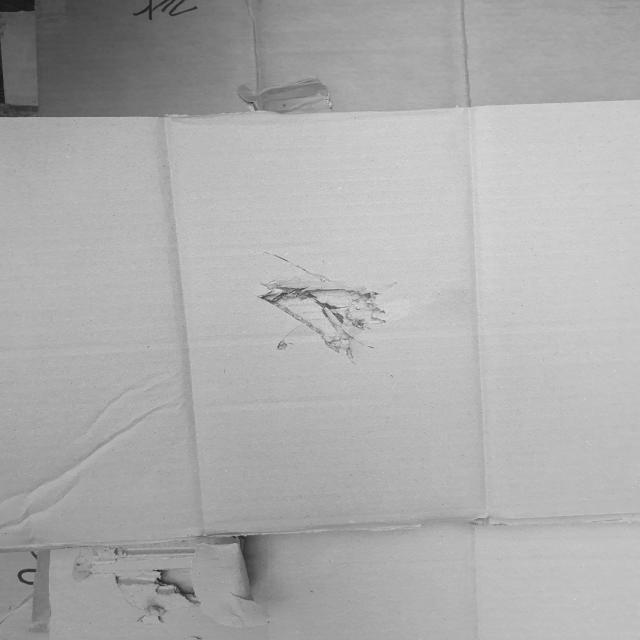hole: (259, 275, 399, 369)
